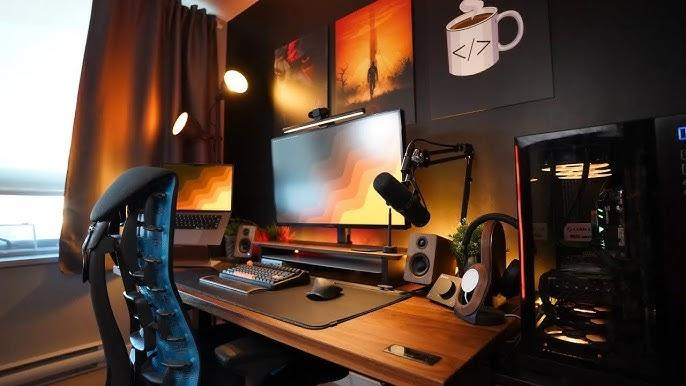head_phone: (460, 207, 532, 307)
keyboard: (215, 259, 310, 295)
laptop: (146, 162, 238, 249)
mic: (367, 168, 436, 232)
monitor: (268, 106, 412, 230)
mouse: (303, 274, 350, 307)
pc: (505, 111, 686, 374)
speaker: (401, 229, 460, 291), (232, 222, 270, 262)
webcam: (303, 105, 332, 121)
